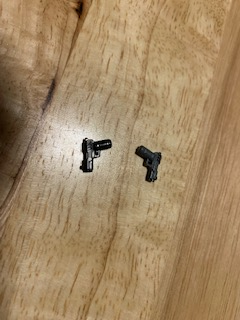pistol: (132, 144, 164, 186), (80, 138, 114, 172)
